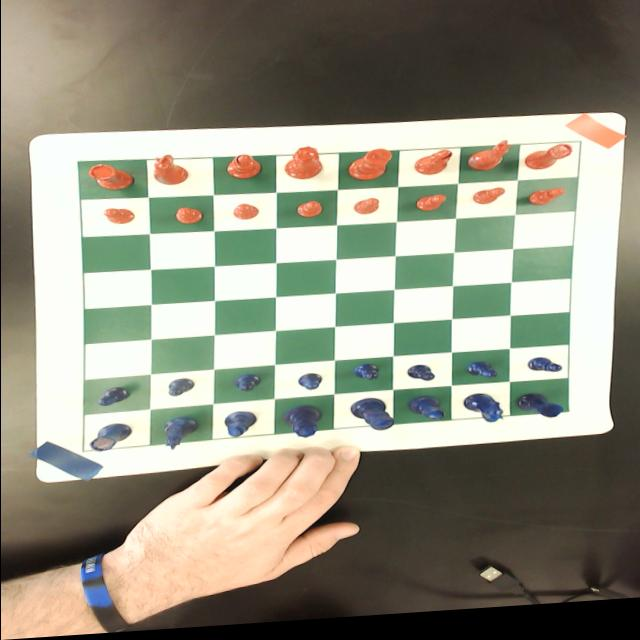B: (407, 402, 445, 428), (222, 414, 256, 441)
K: (350, 402, 394, 437)
N: (158, 420, 198, 454), (463, 399, 505, 431)
P: (524, 363, 562, 382), (464, 367, 499, 387), (96, 388, 130, 408), (232, 376, 262, 397), (166, 380, 194, 400), (296, 377, 324, 396), (406, 370, 434, 389), (352, 368, 378, 387)
Q: (284, 409, 322, 443)
R: (514, 398, 564, 427), (88, 424, 134, 454)
b: (224, 156, 262, 184), (414, 156, 452, 183)
k: (347, 153, 392, 186)
n: (464, 145, 514, 180), (151, 157, 189, 189)
p: (527, 195, 565, 213), (102, 209, 136, 227), (172, 208, 202, 228), (472, 195, 506, 212), (415, 201, 446, 218), (294, 205, 322, 222), (233, 206, 259, 224), (354, 203, 379, 221)
q: (284, 150, 322, 184)
r: (523, 150, 573, 179), (87, 163, 133, 193)
